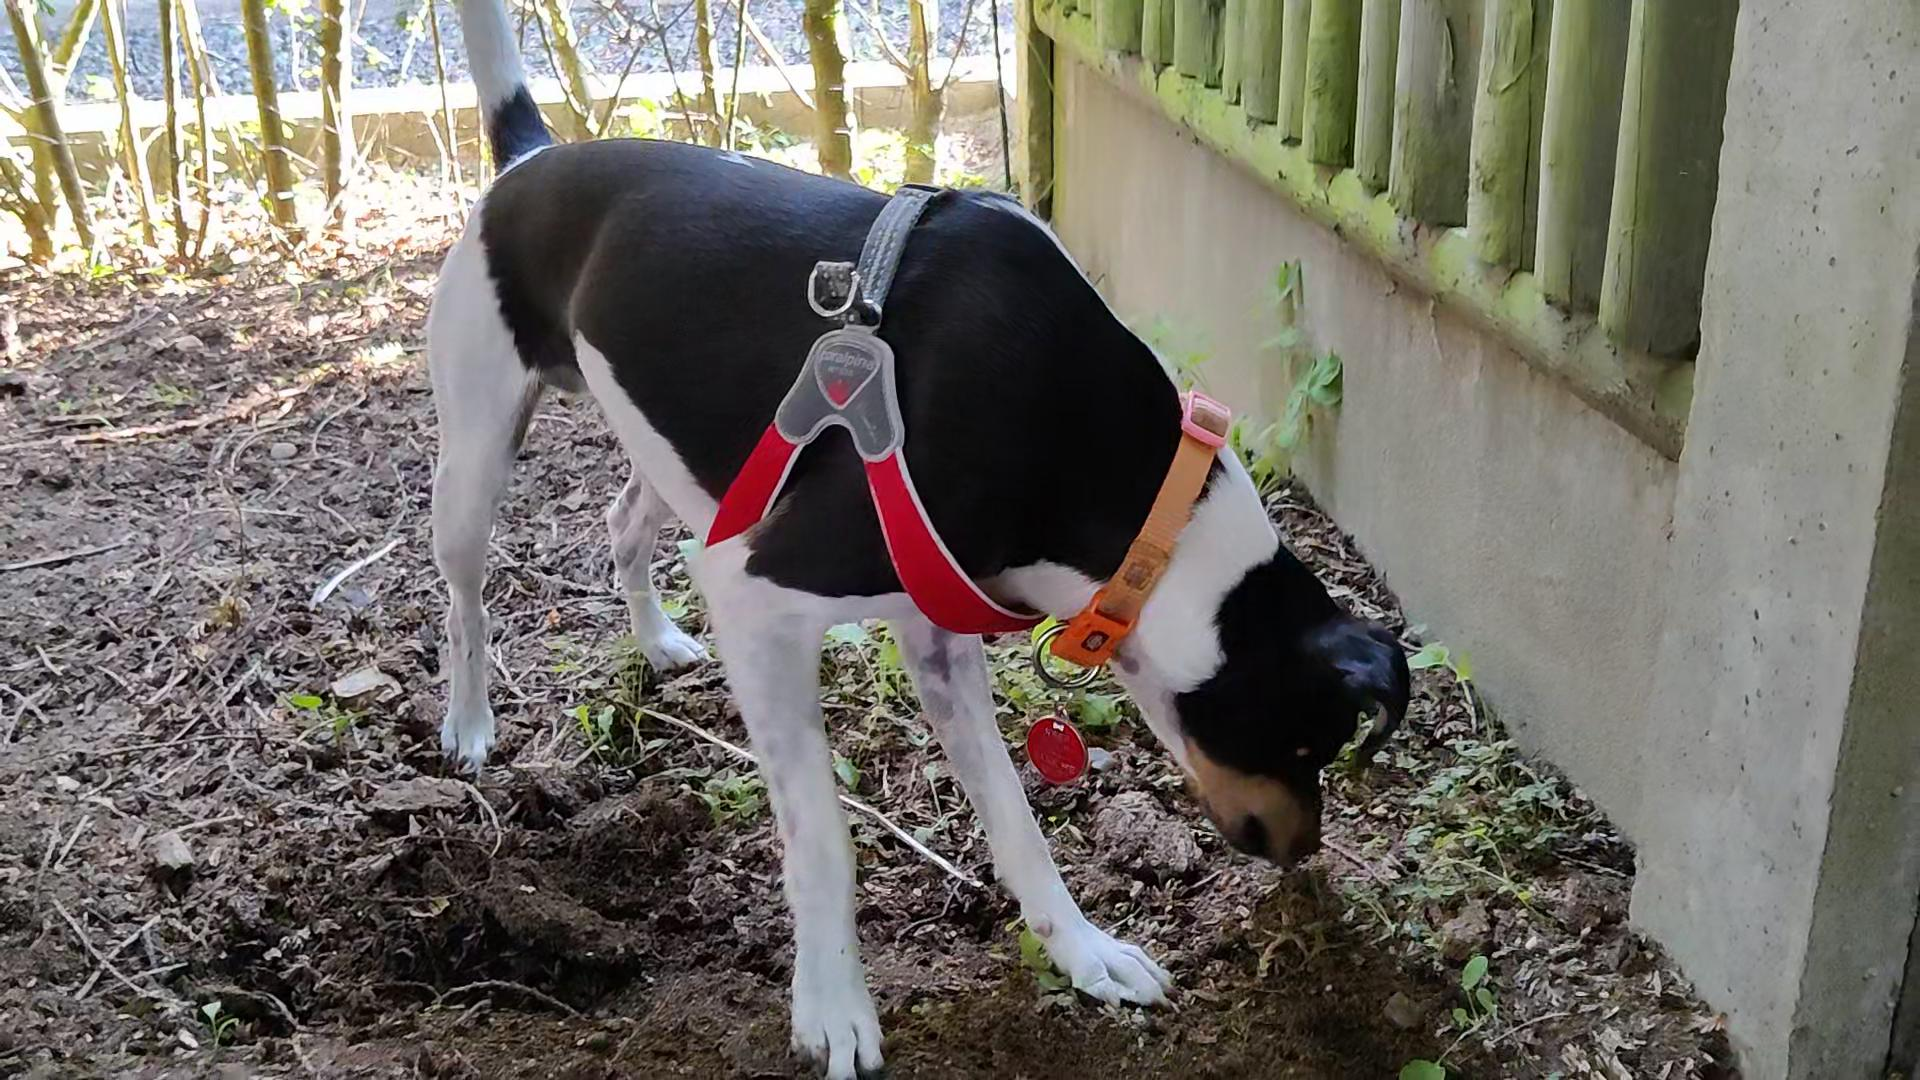Dog: (392, 0, 1429, 1080)
